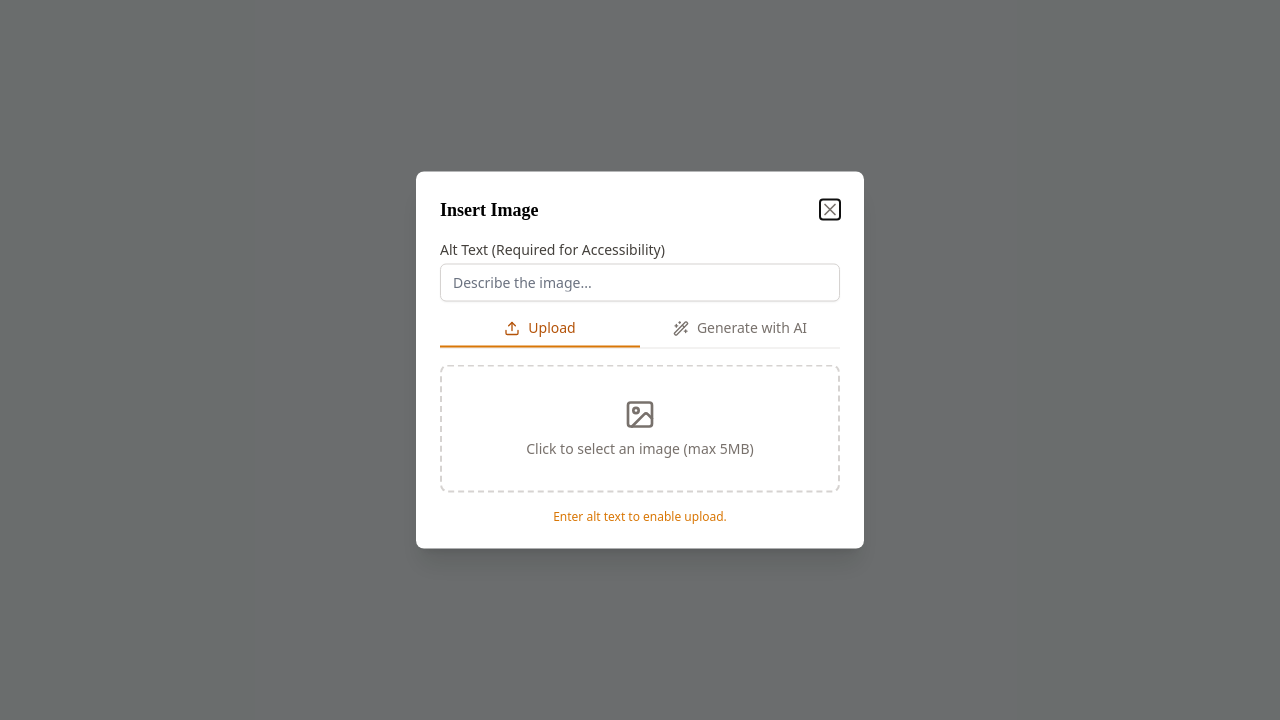
it: ImageUploadDialog › allows upload when alt text is present
In the field labelled "Alt Text (Required for Accessibility)": (640, 282) [440, 264, 840, 302], type "A test image"
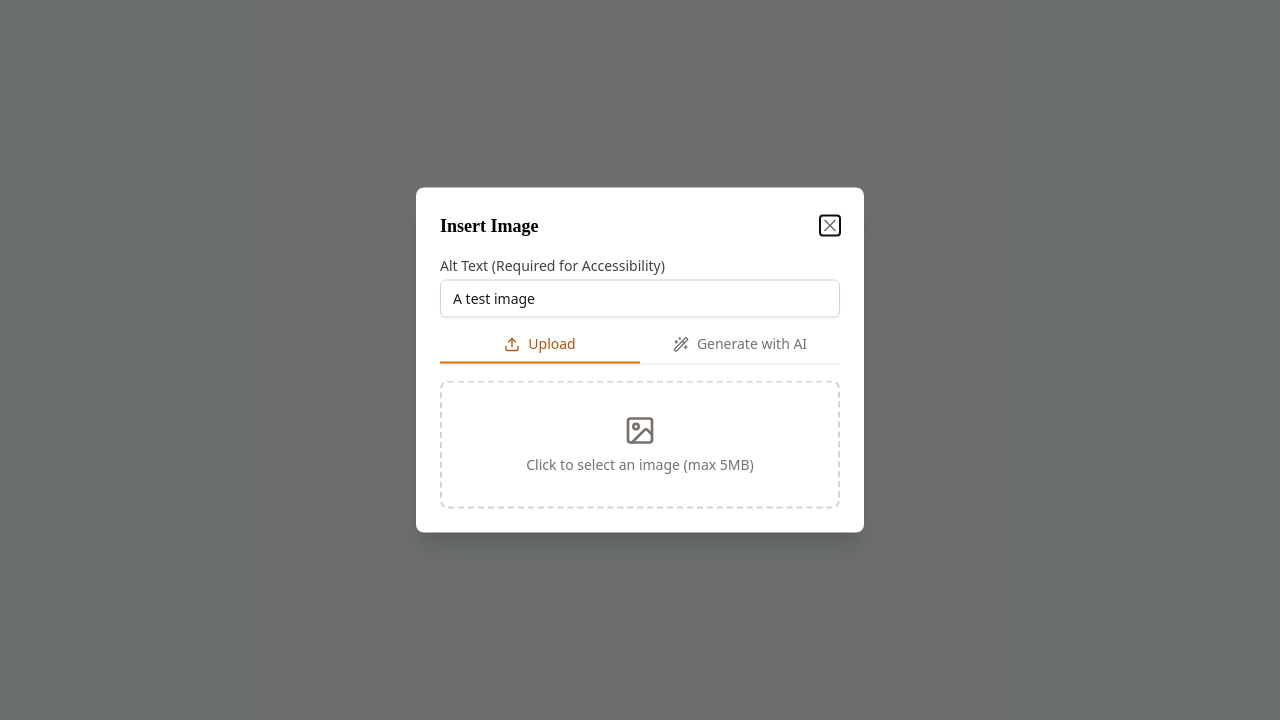
Now the text "Enter alt text to enable upload." is gone
